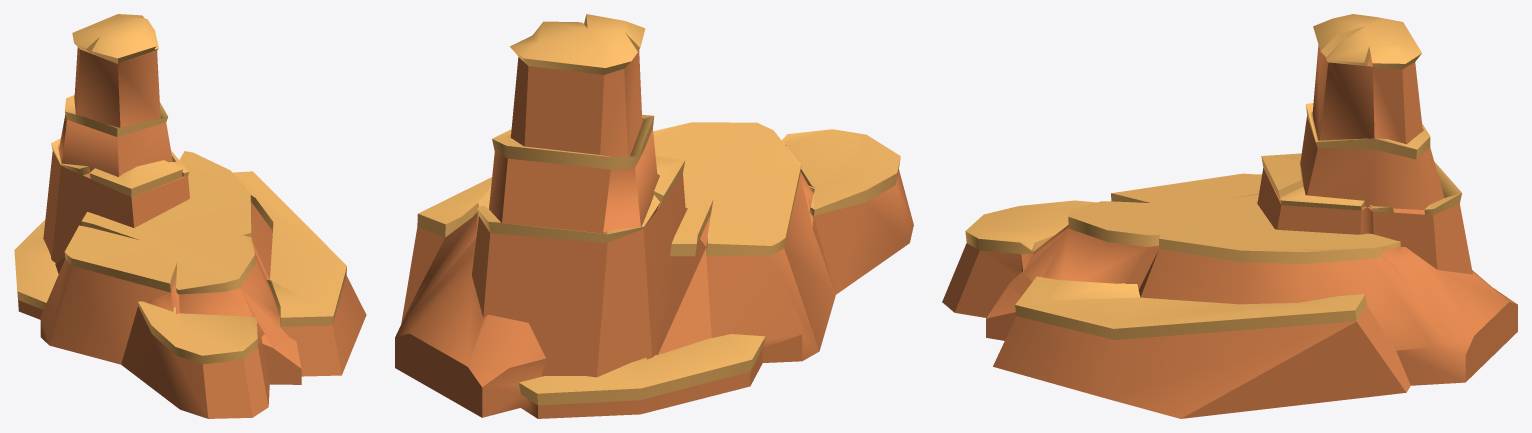
The model's file is Rock_8.fbx.
3 views of the same model, side by side, from view 1: azimuth 30°, elevation 25°; view 2: azimuth 150°, elevation 25°; view 3: azimuth 270°, elevation 25° (orthographic). The views are drawn at different scales.
Parts seen in each view (by area): view 1: Rock_8, Rock_8_Snow; view 2: Rock_8, Rock_8_Snow; view 3: Rock_8, Rock_8_Snow.
Part boxes in pixels (left/top/right/bottom): Rock_8: left=17, top=47, right=366, bottom=418; Rock_8_Snow: left=14, top=14, right=346, bottom=364; Rock_8: left=395, top=49, right=913, bottom=418; Rock_8_Snow: left=417, top=14, right=900, bottom=405; Rock_8: left=942, top=45, right=1517, bottom=418; Rock_8_Snow: left=965, top=14, right=1496, bottom=339.
Size of the model in its own units: 489 by 439 by 752.
